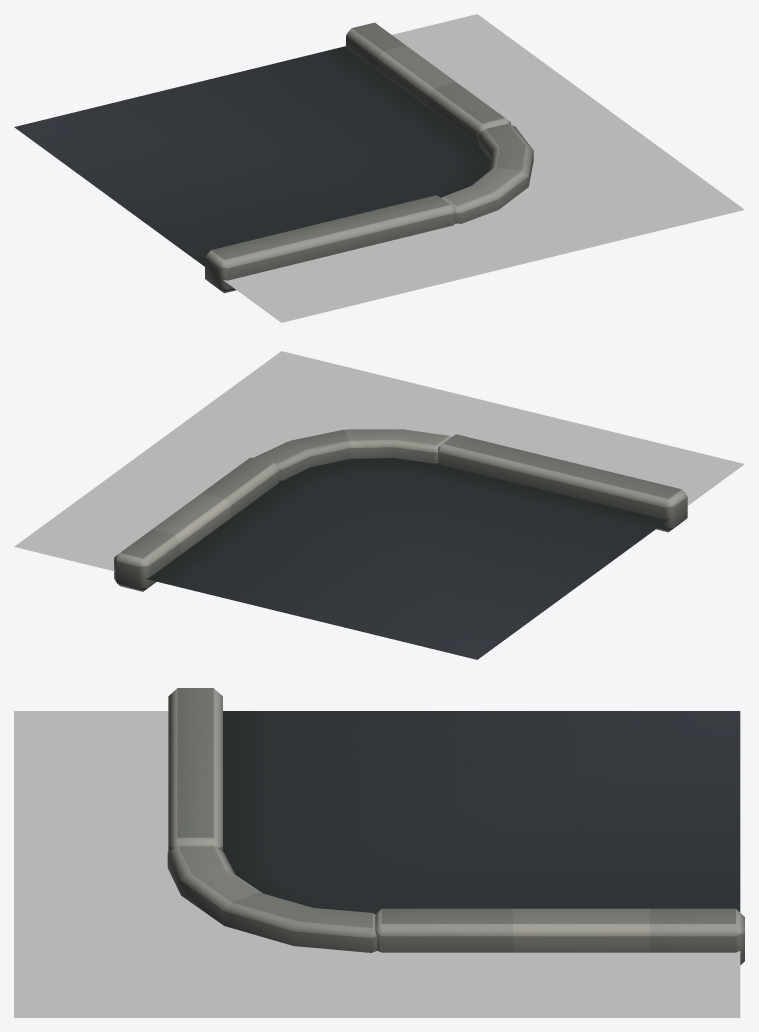
File: parking_lot_corner_concave.fbx
3 views of the same model, one above another, from view 1: azimuth 30°, elevation 25°; view 2: azimuth 150°, elevation 25°; view 3: azimuth 270°, elevation 25° (orthographic). The views are drawn at different scales.
Visible parts, largest first — view 1: parking_lot_corner_concave, parking_lot_corner_concave_sidewalk; view 2: parking_lot_corner_concave, parking_lot_corner_concave_sidewalk; view 3: parking_lot_corner_concave, parking_lot_corner_concave_sidewalk.
Part boxes in pixels (box(x1,y1,x2,y2)): parking_lot_corner_concave: box(14, 22, 533, 293); parking_lot_corner_concave_sidewalk: box(223, 14, 744, 322); parking_lot_corner_concave: box(114, 429, 687, 659); parking_lot_corner_concave_sidewalk: box(14, 351, 744, 571); parking_lot_corner_concave: box(167, 688, 744, 964); parking_lot_corner_concave_sidewalk: box(14, 711, 740, 1017).
Bounding box in the file's own units: 805 × 55 × 805.
